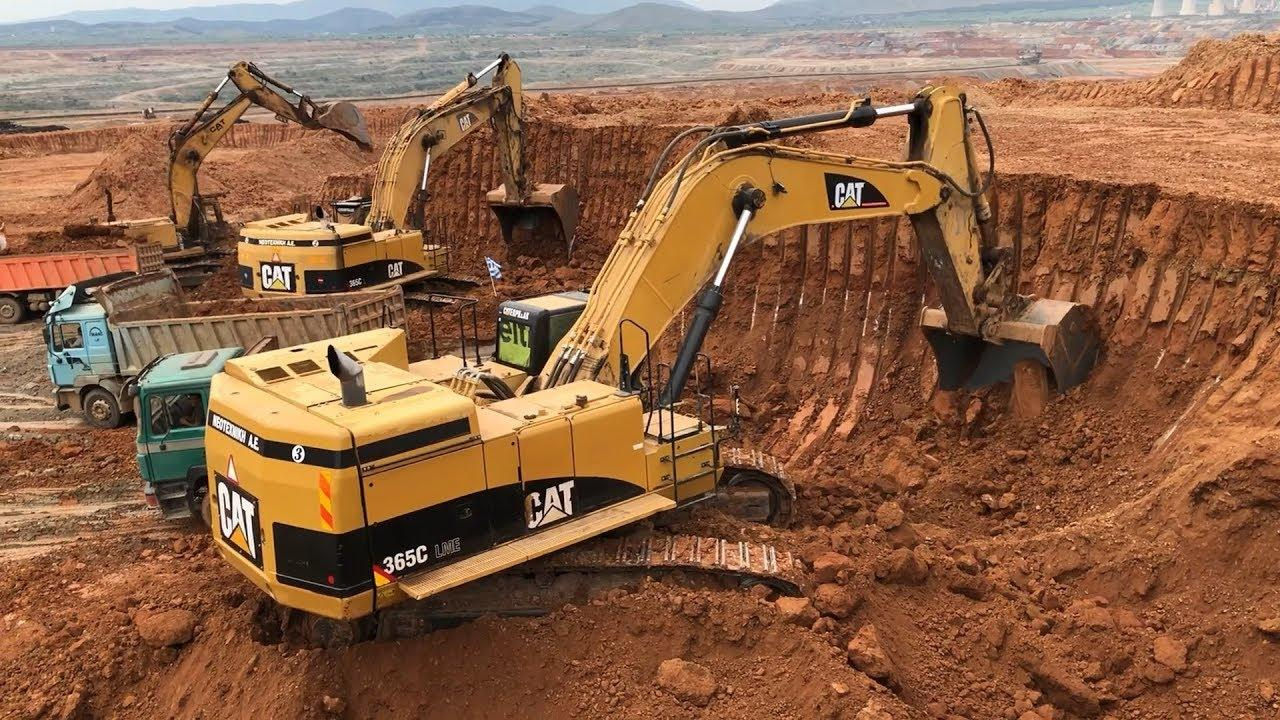excavator: (205, 88, 1106, 645), (235, 54, 580, 306), (84, 63, 375, 287)
